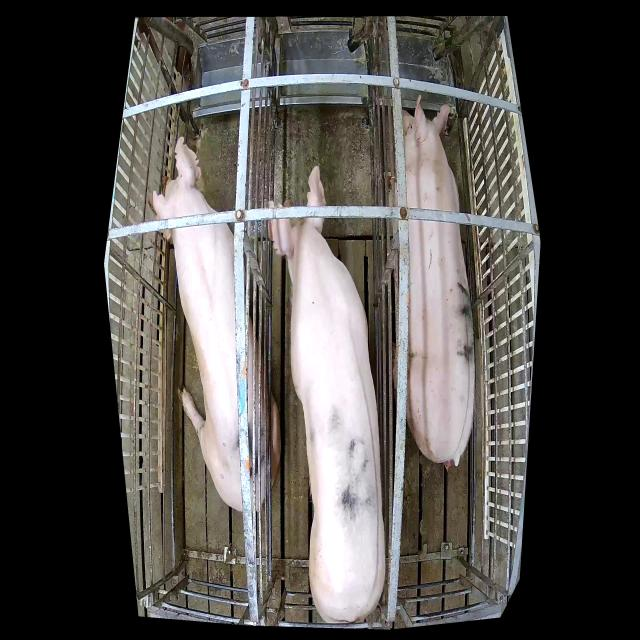pig: (268, 166, 385, 623), (150, 136, 282, 511), (402, 97, 475, 468)
